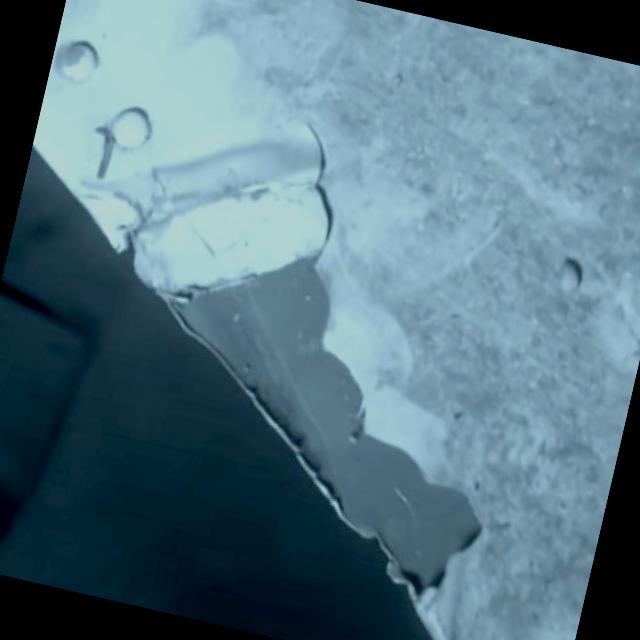crack: (297, 146, 350, 228)
